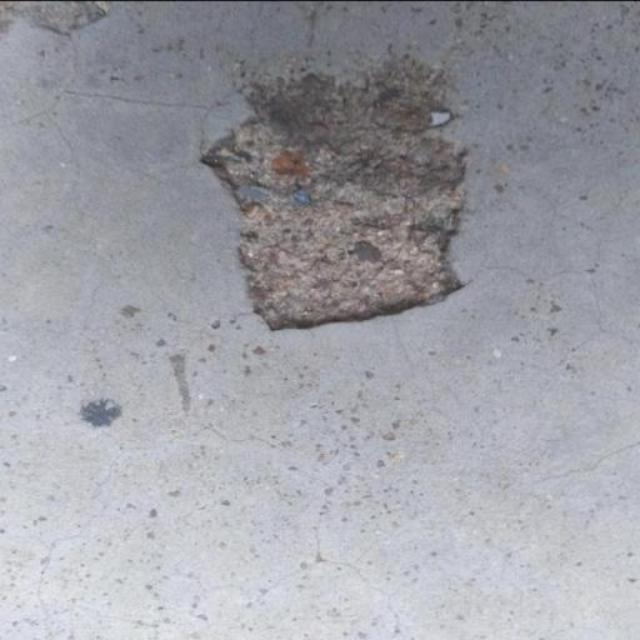D10: (202, 54, 469, 333)
